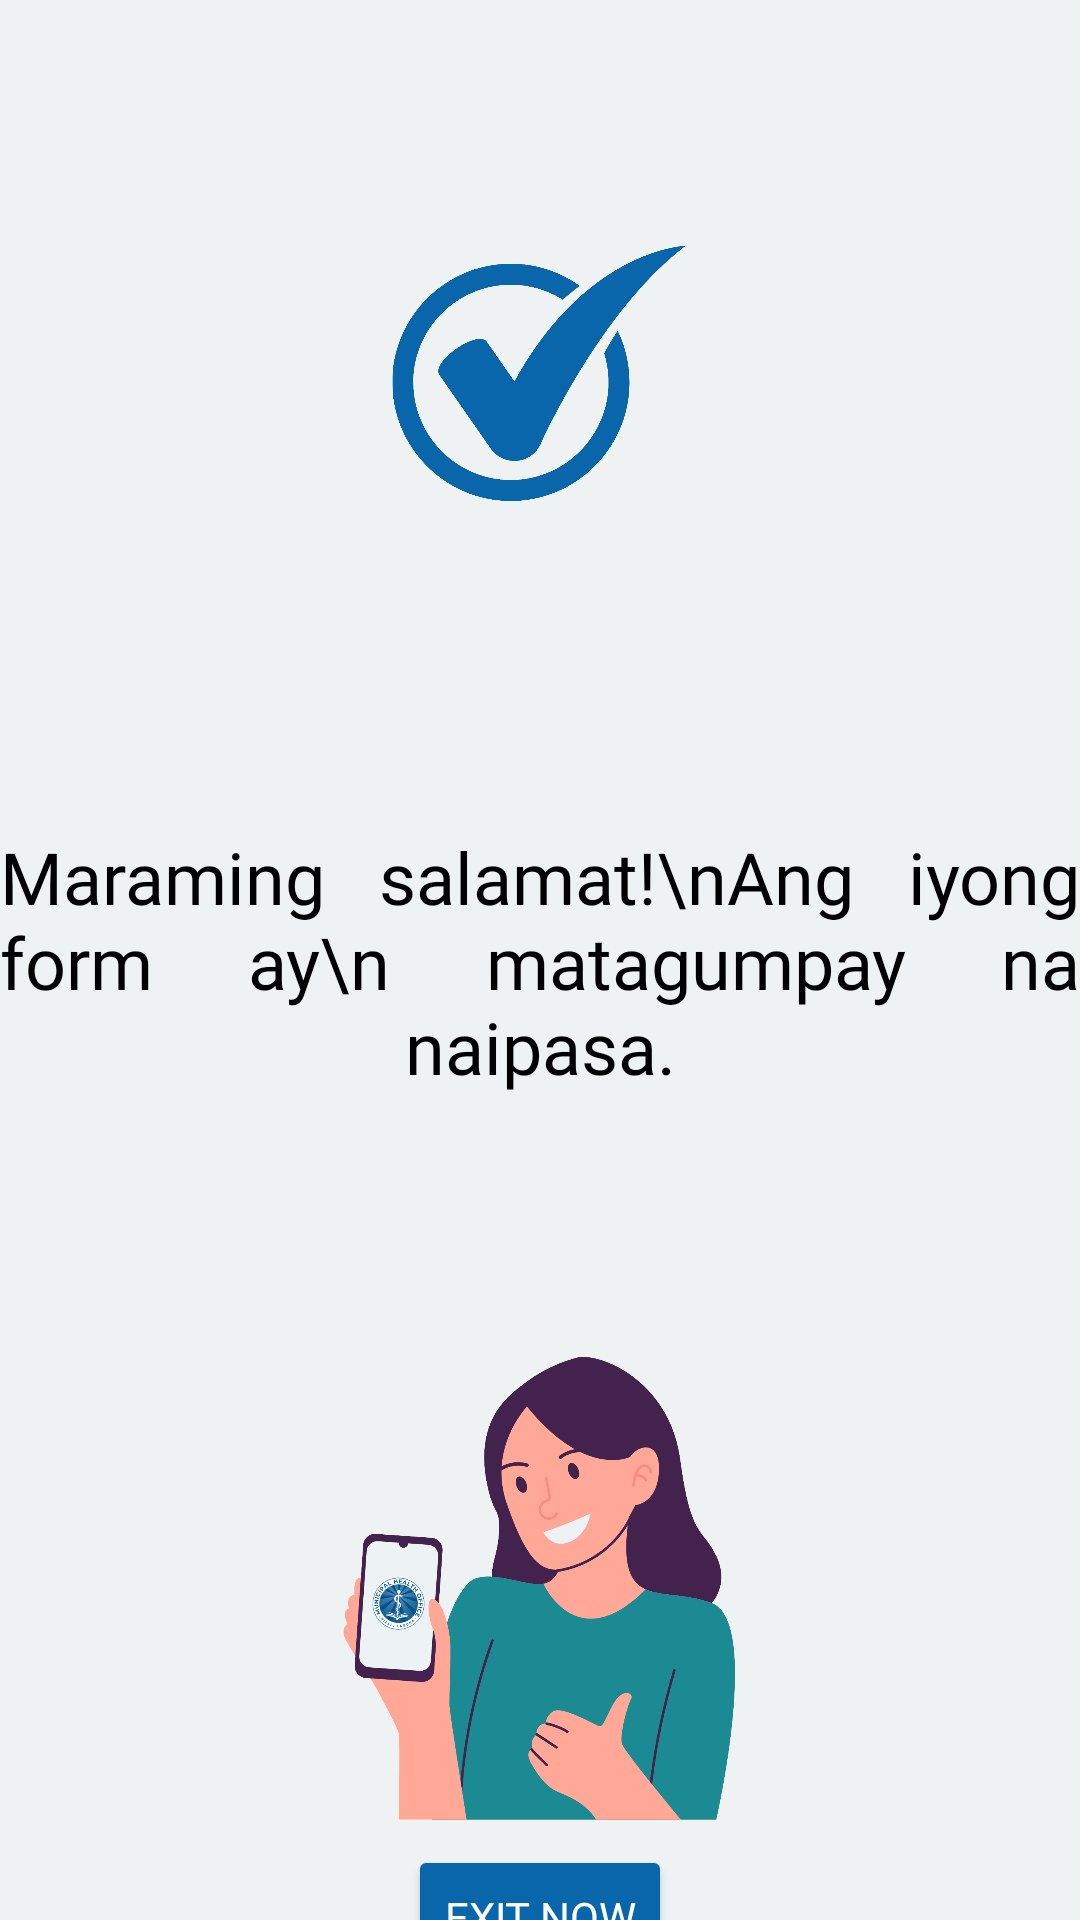

Icon bounding boxes for this 1080 x 1920 phone screenshot, format bbox=[x1, y1, x2, y2]:
check: bbox=[392, 246, 685, 501]
